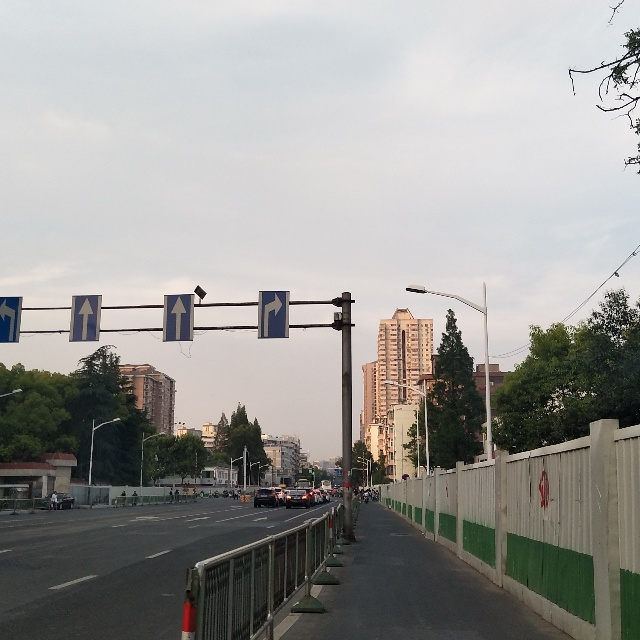left: (1, 296, 22, 345)
right: (257, 287, 291, 345)
straight: (69, 291, 103, 346), (165, 291, 193, 345)
